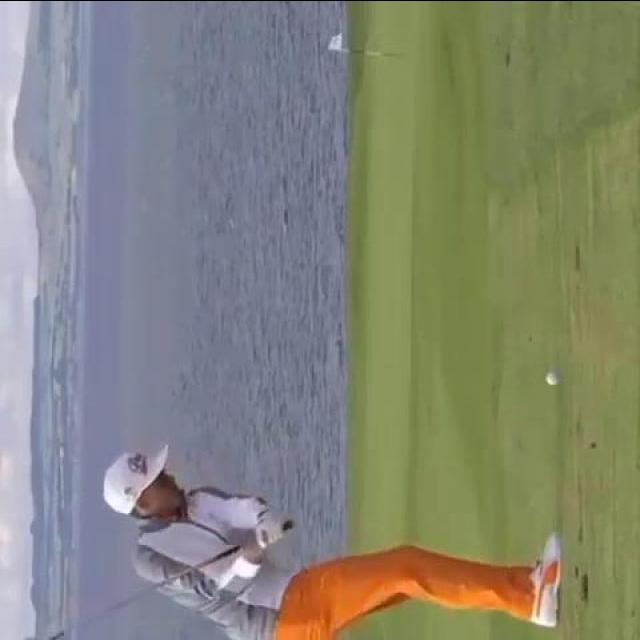golf ball: (542, 371, 563, 387)
golf club-handle: (48, 515, 297, 640)
